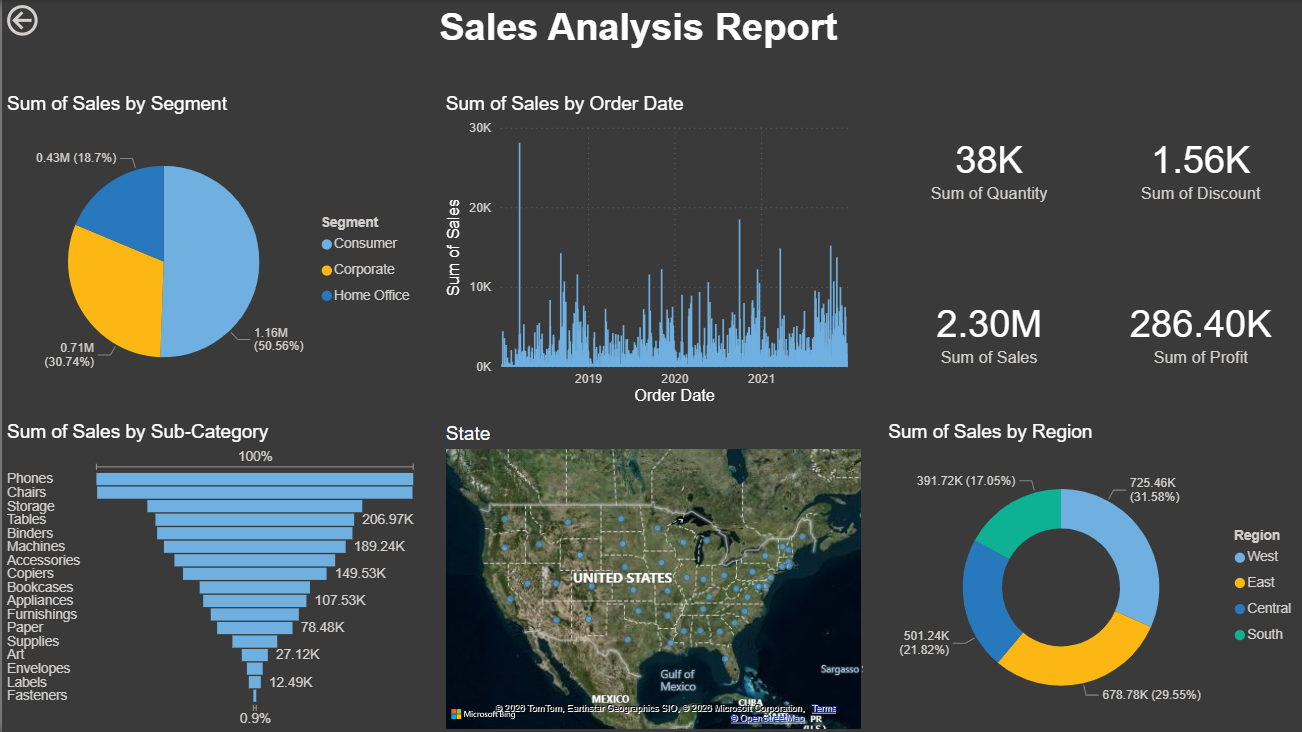

The dashboard page shown, as its layout file describes it:
{"tool":"powerbi","page":{"name":"Page 1","canvas":[1280,720],"ordinal":0},"visuals":[{"type":"donutChart","fields":{"Category":["Pavan Lalwani Sales Report xlsx - Orders.Region"],"Y":["Sum(Pavan Lalwani Sales Report xlsx - Orders.Sales)"]},"box":[864.7,413.9,415.3,305.8],"z":0},{"type":"funnel","fields":{"Category":["Pavan Lalwani Sales Report xlsx - Orders.Sub-Category"],"Y":["Sum(Pavan Lalwani Sales Report xlsx - Orders.Sales)"]},"box":[0,413.9,413.9,305.8],"z":1000},{"type":"map","fields":{"Category":["Pavan Lalwani Sales Report xlsx - Orders.State"]},"box":[430.7,414.7,418.2,306.1],"z":2000},{"type":"pieChart","fields":{"Category":["Pavan Lalwani Sales Report xlsx - Orders.Segment"],"Y":["Sum(Pavan Lalwani Sales Report xlsx - Orders.Sales)"]},"box":[0,91,413.9,311.5],"z":3000},{"type":"card","fields":{"Values":["Sum(Pavan Lalwani Sales Report xlsx - Orders.Sales)"]},"box":[865,247.4,208.2,154.8],"z":4000},{"type":"card","fields":{"Values":["Sum(Pavan Lalwani Sales Report xlsx - Orders.Profit)"]},"box":[1073.2,247.4,206.5,154.8],"z":5000},{"type":"card","fields":{"Values":["Sum(Pavan Lalwani Sales Report xlsx - Orders.Quantity)"]},"box":[865,90.8,208.2,145.9],"z":6000},{"type":"card","fields":{"Values":["Sum(Pavan Lalwani Sales Report xlsx - Orders.Discount)"]},"box":[1073.2,90.8,206.5,145.9],"z":7000},{"type":"textbox","box":[142.2,0,964.3,65.4],"z":8000},{"type":"clusteredColumnChart","fields":{"Category":["Pavan Lalwani Sales Report xlsx - Orders.Order Date"],"Y":["Sum(Pavan Lalwani Sales Report xlsx - Orders.Sales)"]},"box":[430.4,90.8,417.8,311.6],"z":9000},{"type":"actionButton","box":[0,0,100,40],"z":10000}]}

Visuals, with their boxes in screenshot pixels (x1, y1, x2, y2), scaled from the page's 1280x720 canvas onto the 1302x732 screenshot:
donutChart - Pavan Lalwani Sales Report xlsx - Orders.Region x Sum(Pavan Lalwani Sales Report xlsx - Orders.Sales): <bbox>880, 421, 1301, 731</bbox>
funnel - Pavan Lalwani Sales Report xlsx - Orders.Sub-Category x Sum(Pavan Lalwani Sales Report xlsx - Orders.Sales): <bbox>0, 421, 421, 731</bbox>
map - Pavan Lalwani Sales Report xlsx - Orders.State: <bbox>438, 422, 863, 731</bbox>
pieChart - Pavan Lalwani Sales Report xlsx - Orders.Segment x Sum(Pavan Lalwani Sales Report xlsx - Orders.Sales): <bbox>0, 93, 421, 409</bbox>
card - Sum(Pavan Lalwani Sales Report xlsx - Orders.Sales): <bbox>880, 252, 1092, 409</bbox>
card - Sum(Pavan Lalwani Sales Report xlsx - Orders.Profit): <bbox>1092, 252, 1301, 409</bbox>
card - Sum(Pavan Lalwani Sales Report xlsx - Orders.Quantity): <bbox>880, 92, 1092, 241</bbox>
card - Sum(Pavan Lalwani Sales Report xlsx - Orders.Discount): <bbox>1092, 92, 1301, 241</bbox>
textbox: <bbox>145, 0, 1126, 66</bbox>
clusteredColumnChart - Pavan Lalwani Sales Report xlsx - Orders.Order Date x Sum(Pavan Lalwani Sales Report xlsx - Orders.Sales): <bbox>438, 92, 863, 409</bbox>
actionButton: <bbox>0, 0, 102, 41</bbox>
